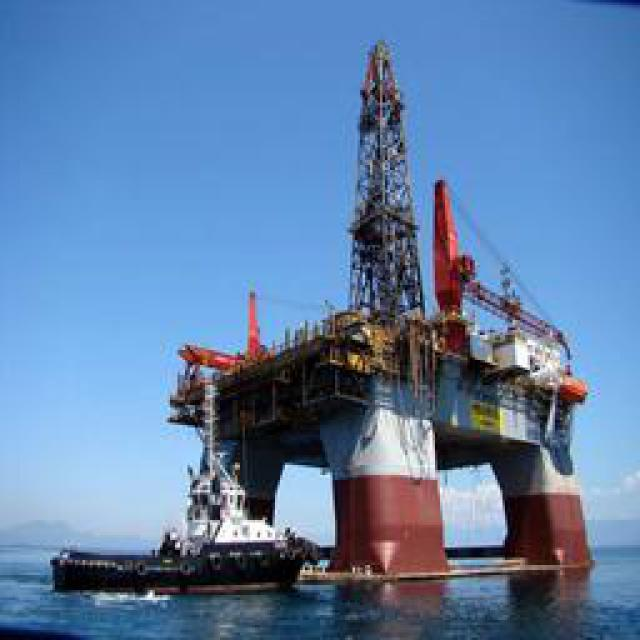Ship: (60, 363, 323, 598)
